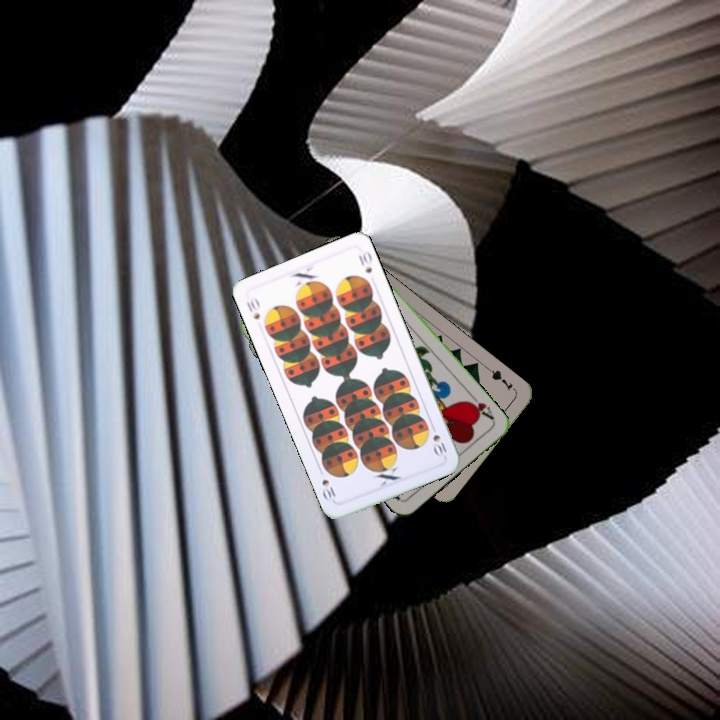G7: (484, 365, 515, 393)
HA: (462, 390, 497, 423)
S10: (429, 430, 449, 460), (242, 294, 263, 322)
